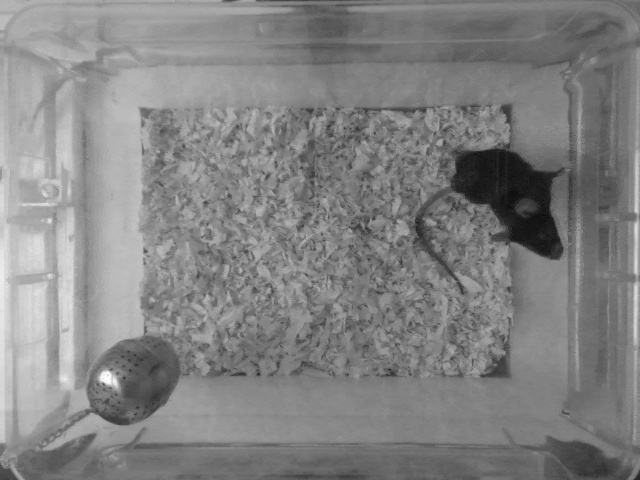mice: (409, 143, 571, 301)
